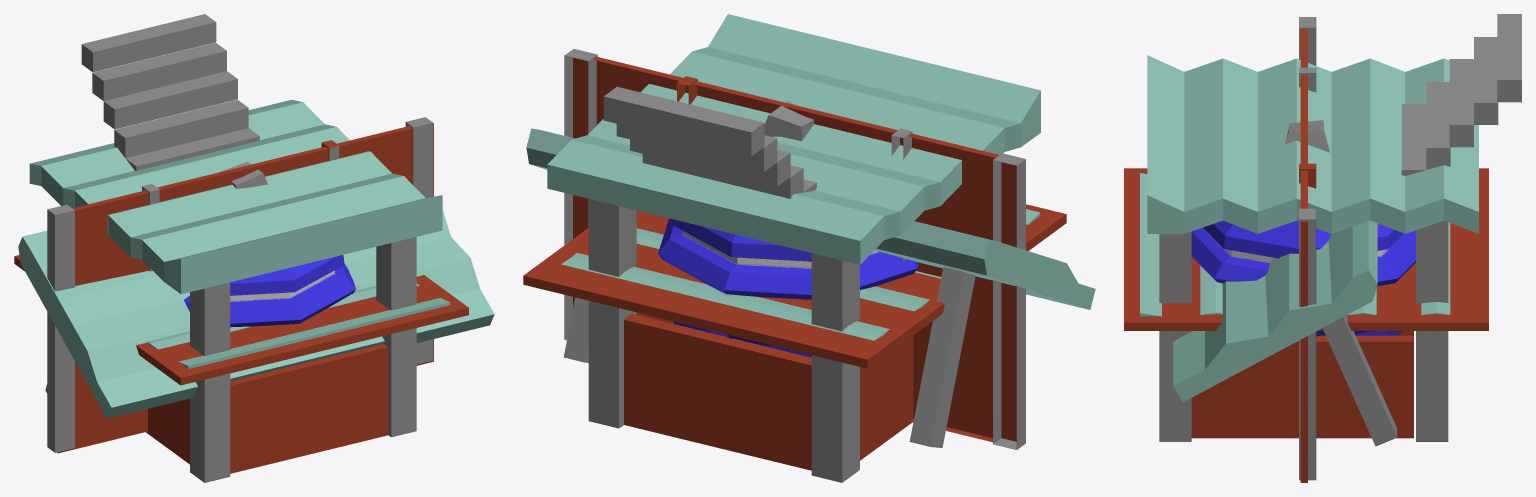
Rendered from casinhas.fbx.
3 renders of one model, left to right at view 1: azimuth 30°, elevation 25°; view 2: azimuth 150°, elevation 25°; view 3: azimuth 270°, elevation 25°, orthographic. The views are drawn at different scales.
Visible parts, largest first — view 1: torrezinha, marquize, parede, escada, chao, caixa dagua, teto, parede menor, pilar; view 2: torrezinha, parede, chao, marquize, escada, caixa dagua, teto, parede menor, pilar; view 3: torrezinha, marquize, chao, escada, caixa dagua, parede, teto, pilar, parede menor.
Part boxes in pixels (<box>): torrezinha: <box>29,99,442,482</box>; marquize: <box>18,210,494,418</box>; parede: <box>47,117,433,453</box>; escada: <box>81,14,259,170</box>; chao: <box>14,255,468,385</box>; caixa dagua: <box>184,255,355,327</box>; teto: <box>147,283,450,368</box>; parede menor: <box>142,140,339,271</box>; pilar: <box>220,161,267,188</box>; torrezinha: <box>547,14,1040,482</box>; parede: <box>564,49,1025,449</box>; chao: <box>523,204,1066,368</box>; marquize: <box>526,128,1095,447</box>; escada: <box>603,86,816,198</box>; caixa dagua: <box>658,218,918,357</box>; teto: <box>561,209,1039,340</box>; parede menor: <box>677,76,912,262</box>; pilar: <box>764,101,813,141</box>; torrezinha: <box>1147,55,1478,441</box>; marquize: <box>1173,220,1397,446</box>; chao: <box>1124,168,1488,330</box>; escada: <box>1377,14,1521,228</box>; caixa dagua: <box>1191,220,1415,336</box>; parede: <box>1299,17,1316,482</box>; teto: <box>1140,173,1450,316</box>; pilar: <box>1285,120,1329,152</box>; parede menor: <box>1299,67,1316,188</box>.
Size of the model in its own units: 378 by 290 by 310.
Materials: 1 (1 with a texture image).
